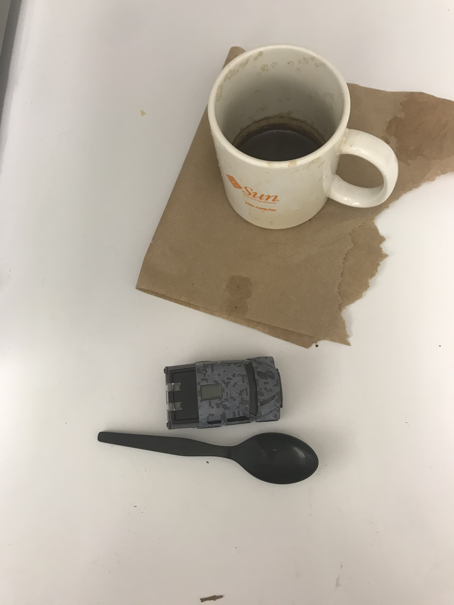MXT: (164, 355, 285, 429)
